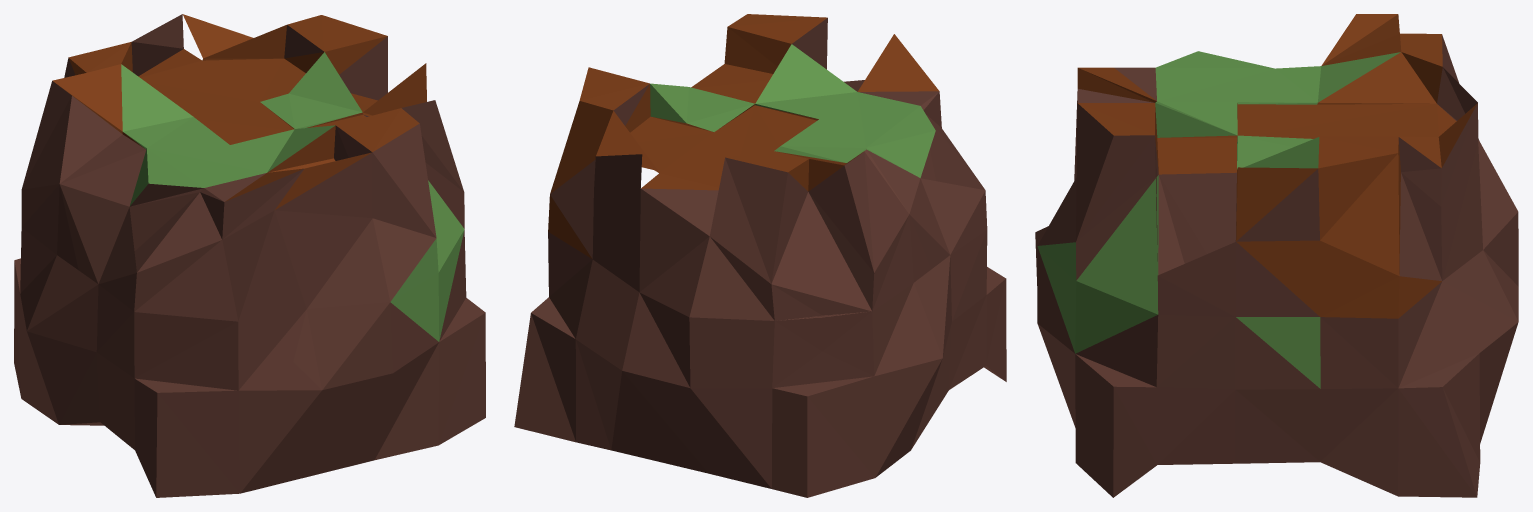
File: mossy-stump.glb
3 renders of one model, left to right at view 1: azimuth 30°, elevation 25°; view 2: azimuth 150°, elevation 25°; view 3: azimuth 270°, elevation 25°, orthographic. The views are drawn at different scales.
Bounding box in the file's own units: 0.7283 × 0.5946 × 0.7894.
